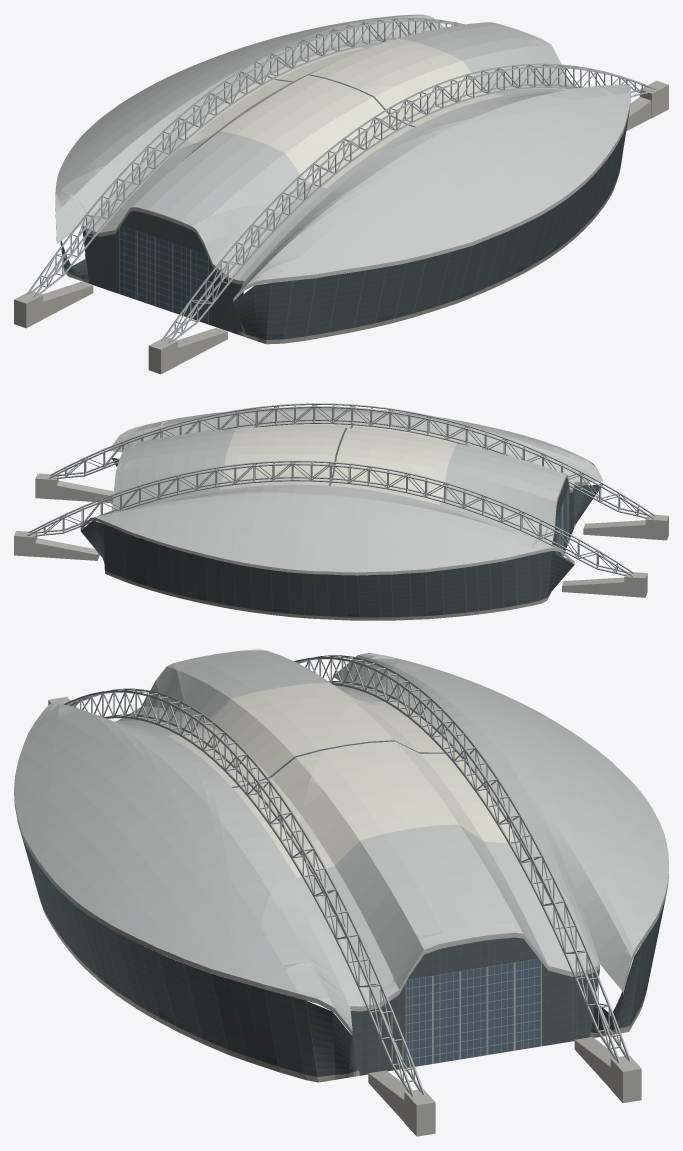
Rendered from att-stadium-near.glb.
3 renders of one model, top to bottom at view 1: azimuth 30°, elevation 25°; view 2: azimuth 150°, elevation 25°; view 3: azimuth 270°, elevation 25°, orthographic. The views are drawn at different scales.
Parts seen in each view (by area): view 1: att-stadium-0-roof, att-stadium-0-glass, att-stadium-0-membrane, att-stadium-0-steel, att-stadium-0-seam, att-stadium-0-concrete, att-stadium-0-door; view 2: att-stadium-0-roof, att-stadium-0-glass, att-stadium-0-steel, att-stadium-0-membrane, att-stadium-0-concrete, att-stadium-0-seam, att-stadium-0-door, att-stadium-0-glow; view 3: att-stadium-0-roof, att-stadium-0-membrane, att-stadium-0-glass, att-stadium-0-steel, att-stadium-0-door, att-stadium-0-seam, att-stadium-0-concrete.
Boxes of the visible parts, x1,y1,x2,y2 form: att-stadium-0-roof: (55,14,630,301); att-stadium-0-glass: (60,112,629,339); att-stadium-0-membrane: (180,38,503,188); att-stadium-0-steel: (26,17,656,343); att-stadium-0-seam: (60,74,627,339); att-stadium-0-concrete: (14,80,668,374); att-stadium-0-door: (120,225,207,323); att-stadium-0-roof: (80,407,602,575); att-stadium-0-glass: (81,458,602,617); att-stadium-0-steel: (26,403,656,576); att-stadium-0-membrane: (219,421,463,504); att-stadium-0-concrete: (14,473,668,620); att-stadium-0-seam: (81,423,602,617); att-stadium-0-door: (555,487,569,556); att-stadium-0-glow: (134,520,575,617); att-stadium-0-roof: (14,649,668,1035); att-stadium-0-membrane: (168,683,517,877); att-stadium-0-glass: (23,840,665,1076); att-stadium-0-steel: (64,655,631,1096); att-stadium-0-door: (406,959,540,1067); att-stadium-0-seam: (23,740,663,1076); att-stadium-0-concrete: (39,696,646,1136).
Bounding box in the file's own units: 393 × 73.81 × 246.
